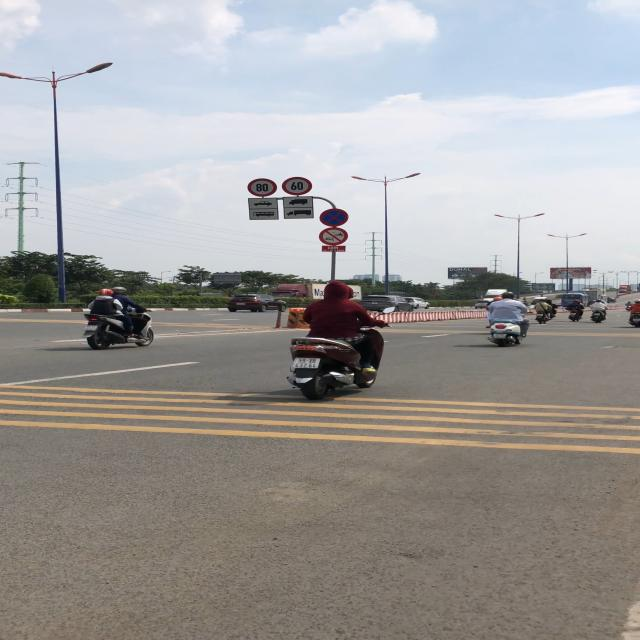Bien bao cam dung xe va do xe: (319, 207, 349, 227)
Bien bao toc do toi da cho phep: (280, 177, 316, 196), (247, 178, 277, 198)
